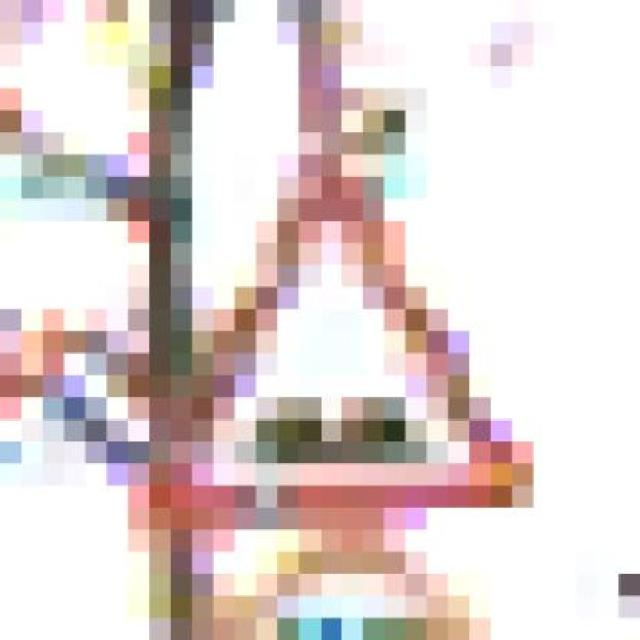Uneven Road: (130, 132, 558, 530)
